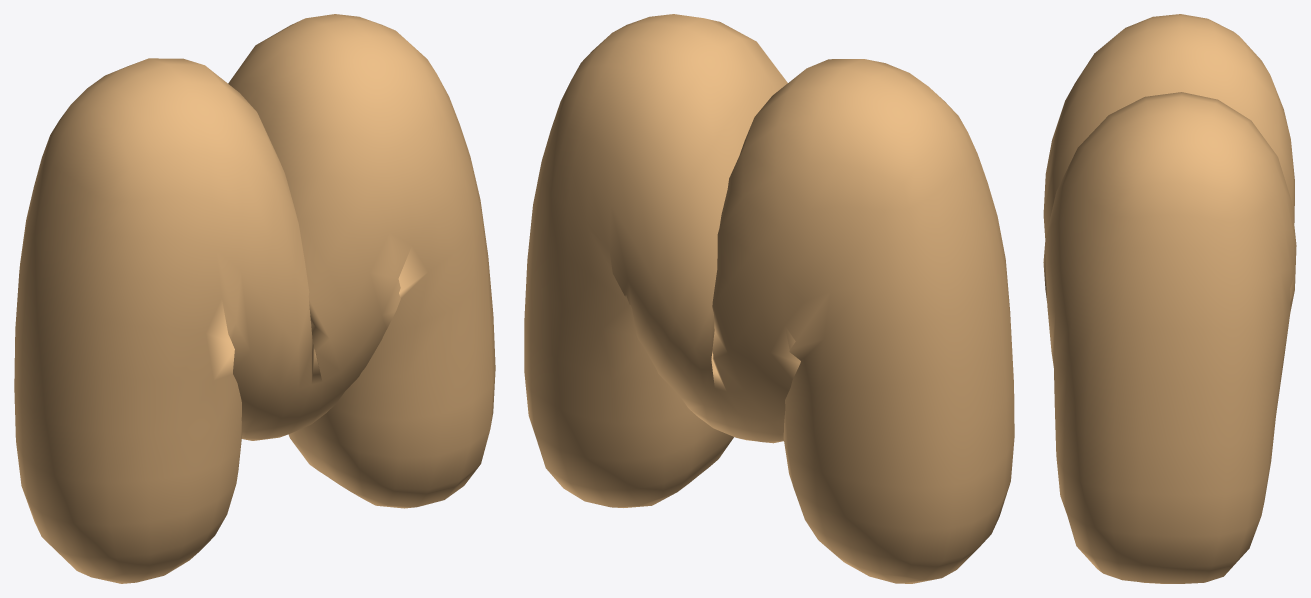
The picture shows the model from 3 angles, left to right: view 1: azimuth 30°, elevation 25°; view 2: azimuth 150°, elevation 25°; view 3: azimuth 270°, elevation 25°; orthographic projection. The views are drawn at different scales.
Visible parts, largest first — view 1: Object_28; view 2: Object_28; view 3: Object_28.
Part boxes in pixels (x1,y1,x2,y2): Object_28: [14, 14, 495, 583]; Object_28: [524, 14, 1014, 583]; Object_28: [1043, 14, 1296, 583].
Bounding box in the file's own units: 0.932 × 0.9941 × 0.4898.
